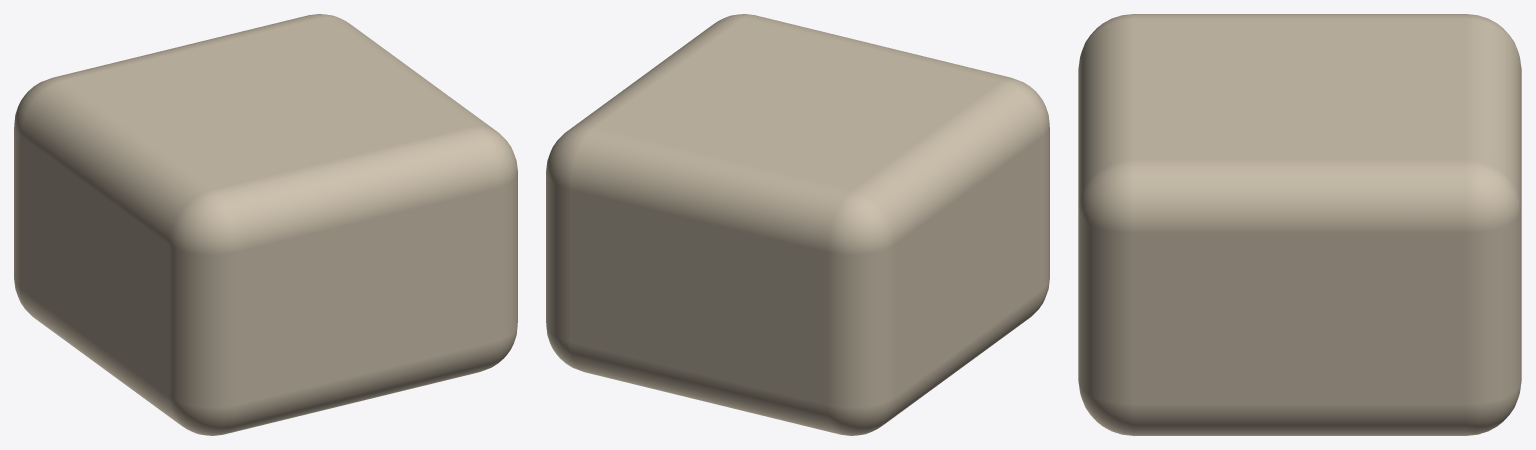
The model's file is pouf-2.glb.
3 views of the same model, side by side, from view 1: azimuth 30°, elevation 25°; view 2: azimuth 150°, elevation 25°; view 3: azimuth 270°, elevation 25° (orthographic). The views are drawn at different scales.
Visible parts, largest first — view 1: pouf:2:archviz; view 2: pouf:2:archviz; view 3: pouf:2:archviz.
Boxes of the visible parts, box(x1,y1,x2,y2) form: pouf:2:archviz: box(14, 14, 517, 435); pouf:2:archviz: box(546, 14, 1049, 435); pouf:2:archviz: box(1078, 14, 1521, 435).
Size of the model in its own units: 0.6 by 0.405 by 0.6.
